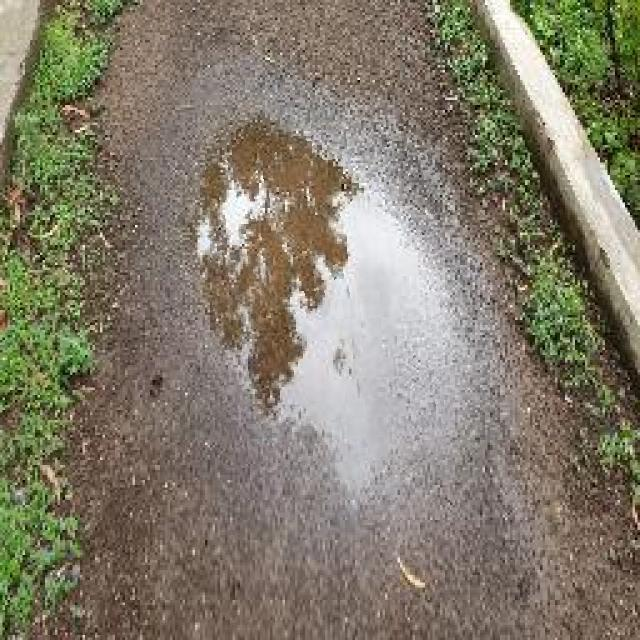puddle: (210, 120, 444, 467)
